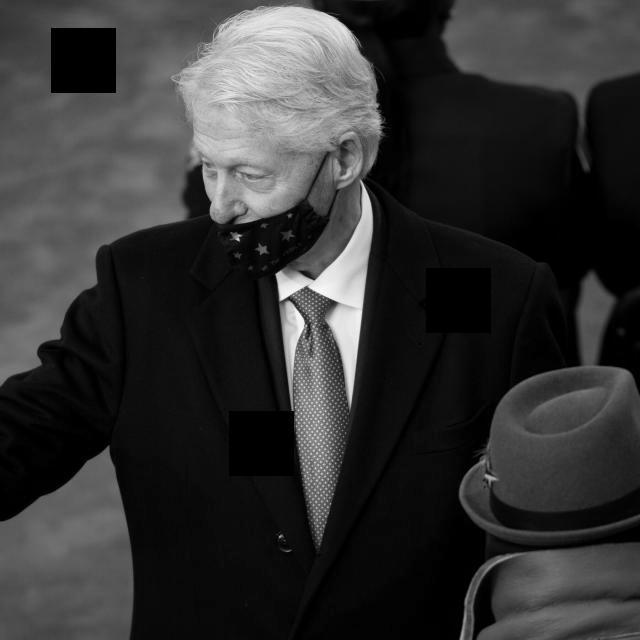hairnet: (206, 147, 348, 287)
